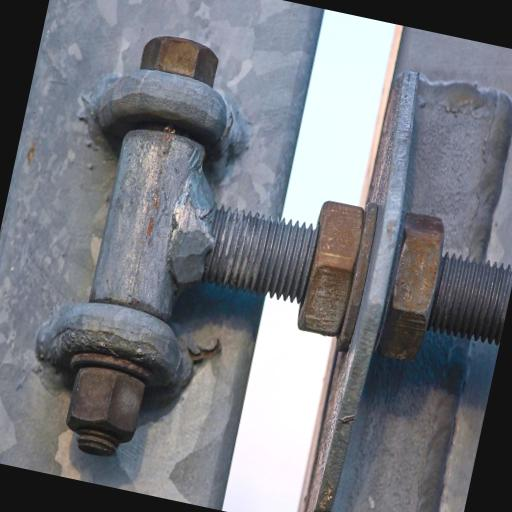segmentation: (299, 201, 364, 338), (66, 351, 145, 455), (390, 212, 445, 317), (139, 36, 215, 82)
